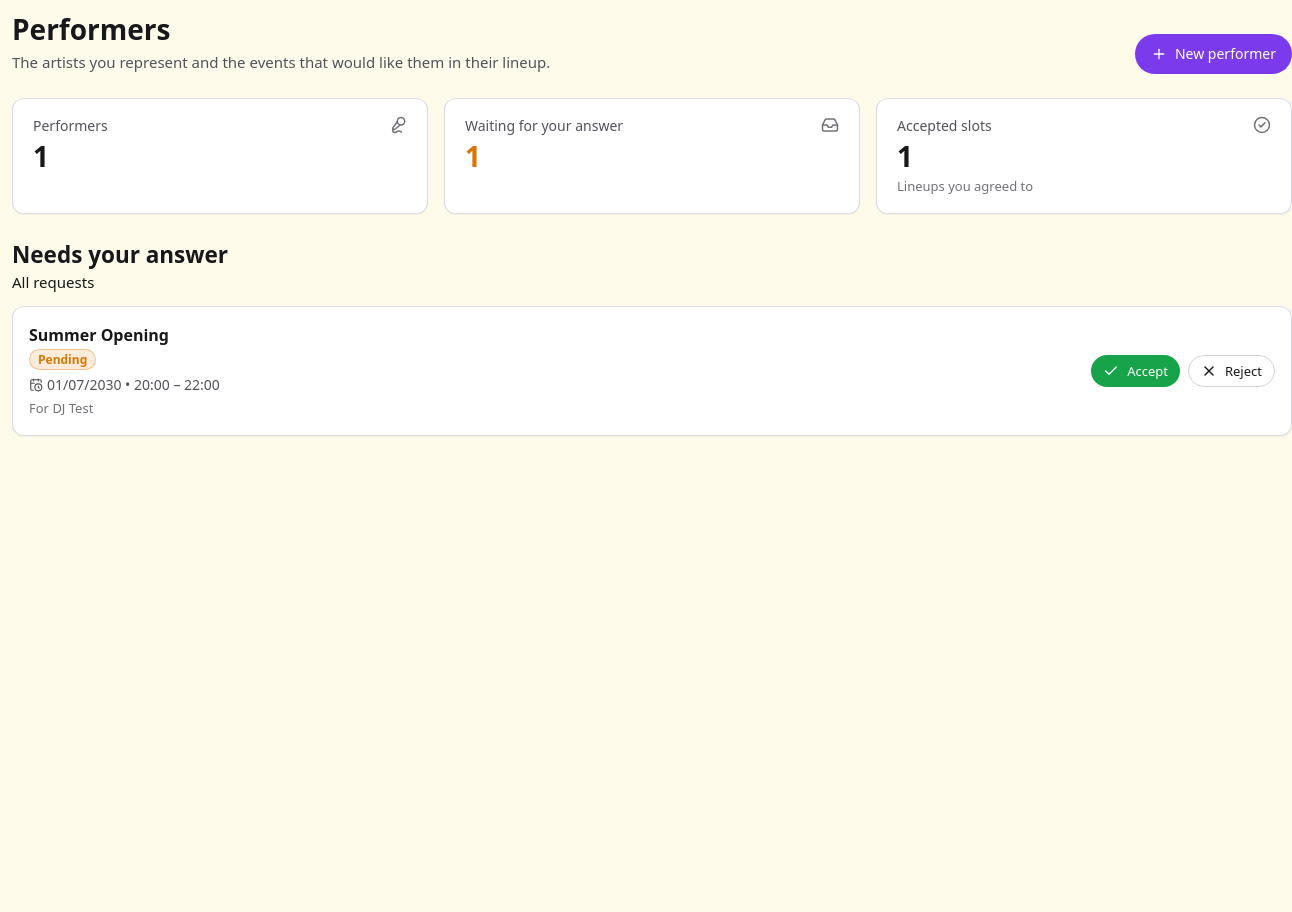
PerformersOverviewPage › counts the performers and requests and answers a pending one
Check: the link "Waiting for your answer 1" is shown, box x1=444 y1=98 x2=860 y2=214
Click the button with aria-label "Accept Summer Opening for DJ Test". click: x=1136, y=371
box: x1=1091 y1=355 x2=1180 y2=387
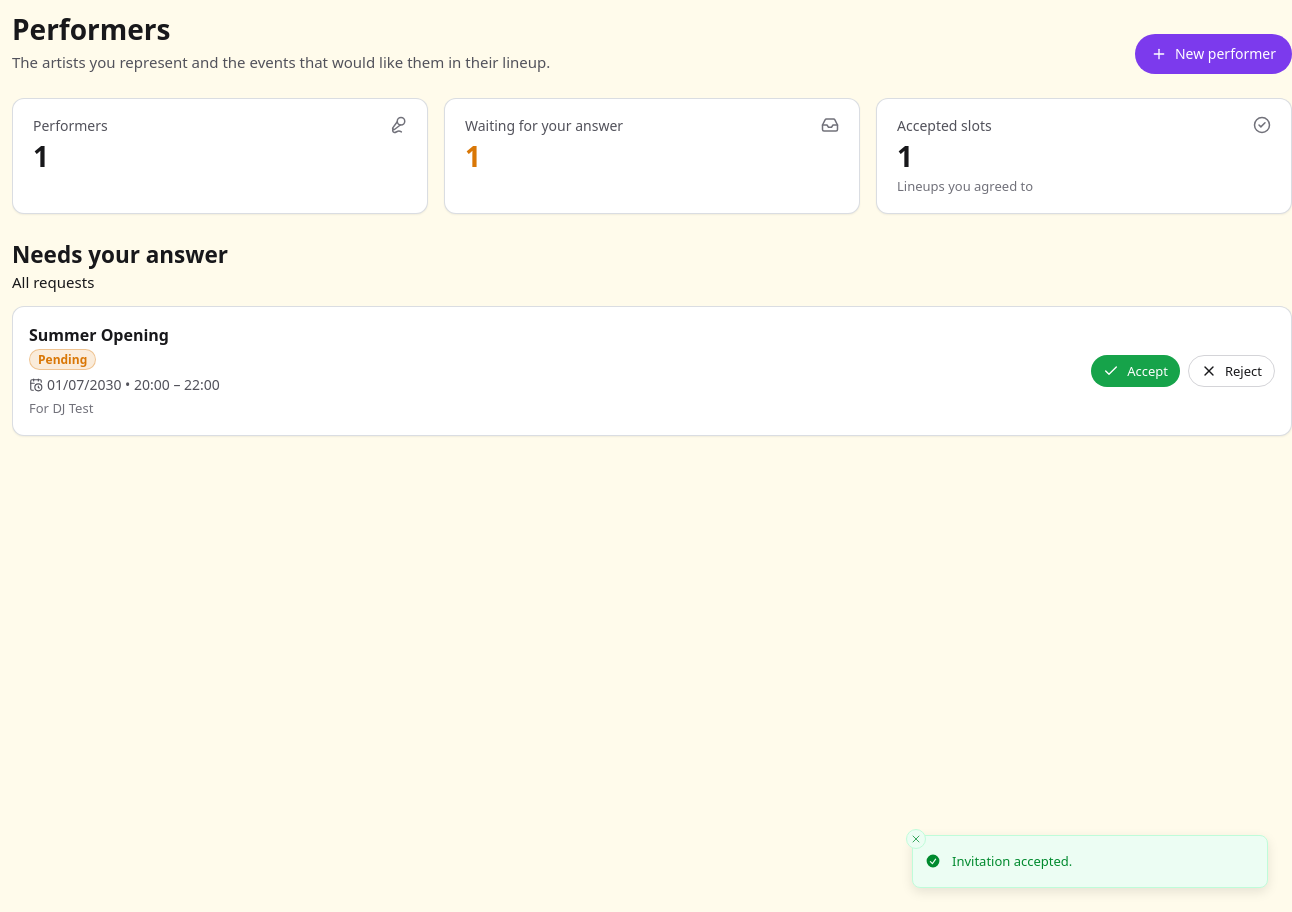
Check: the text "Invitation accepted." is shown, box x1=952 y1=852 x2=1072 y2=871
